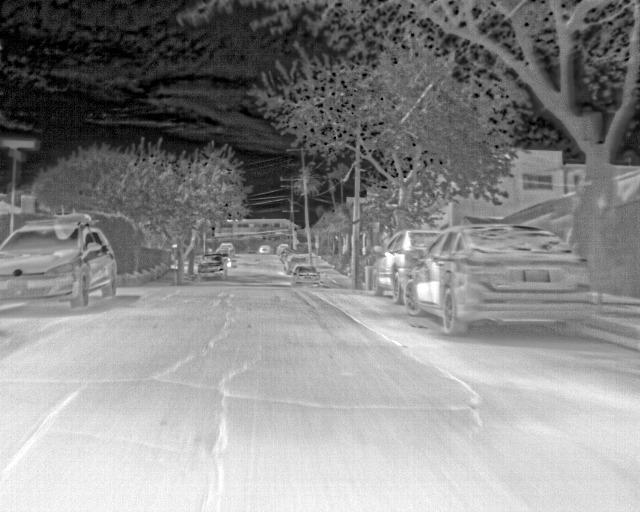car: (403, 224, 592, 336), (0, 220, 117, 310), (372, 229, 442, 305), (197, 254, 227, 282), (292, 264, 321, 287), (283, 254, 309, 275), (280, 248, 296, 262), (220, 242, 235, 256), (276, 244, 291, 255), (258, 245, 272, 255), (222, 254, 232, 267), (216, 247, 230, 256)
light: (211, 226, 215, 237), (294, 227, 297, 236)
sign: (2, 139, 34, 148), (8, 150, 25, 162), (346, 197, 365, 203)
